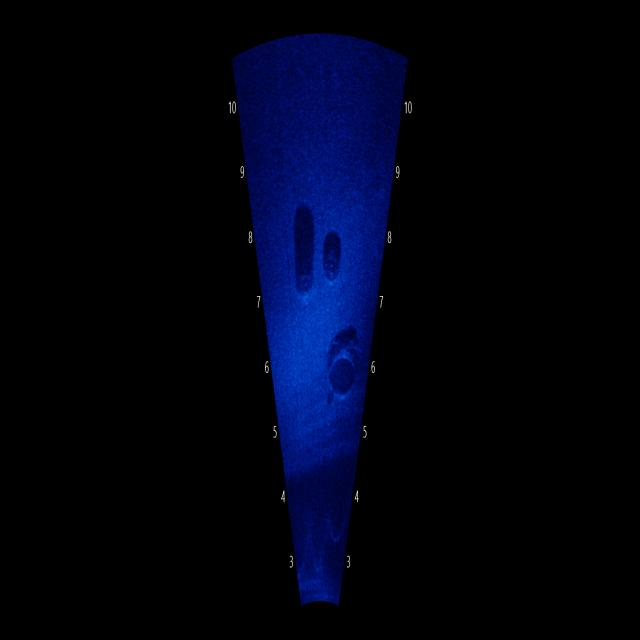circle: (321, 342, 358, 400), (323, 244, 340, 287)
